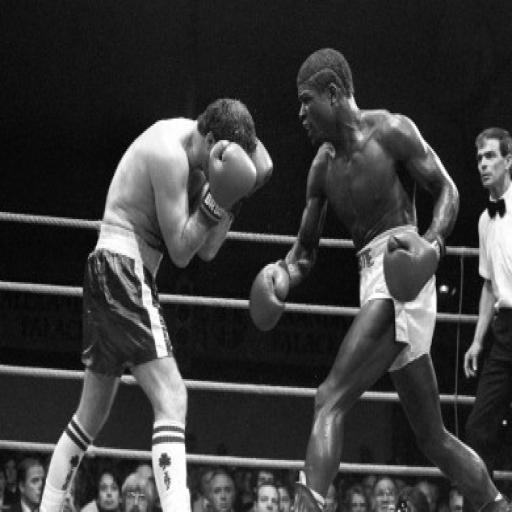boxing: (248, 45, 511, 510), (22, 94, 273, 510)
